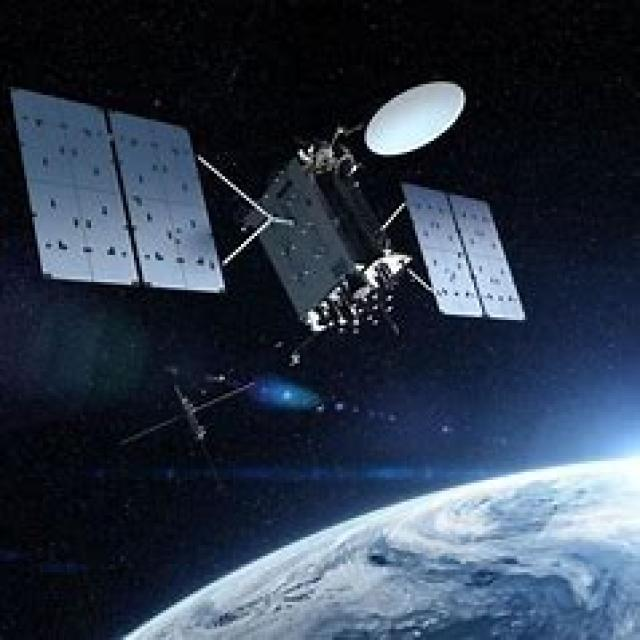medium_debris: (5, 75, 546, 348)
